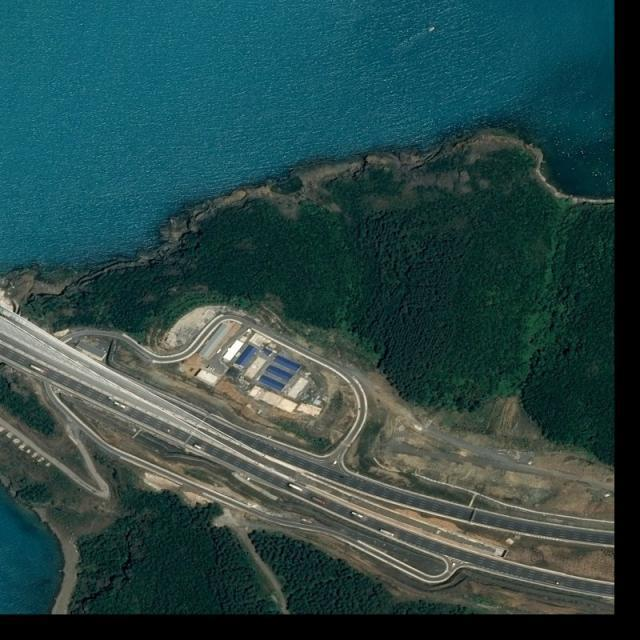ship: (428, 26, 436, 33)
